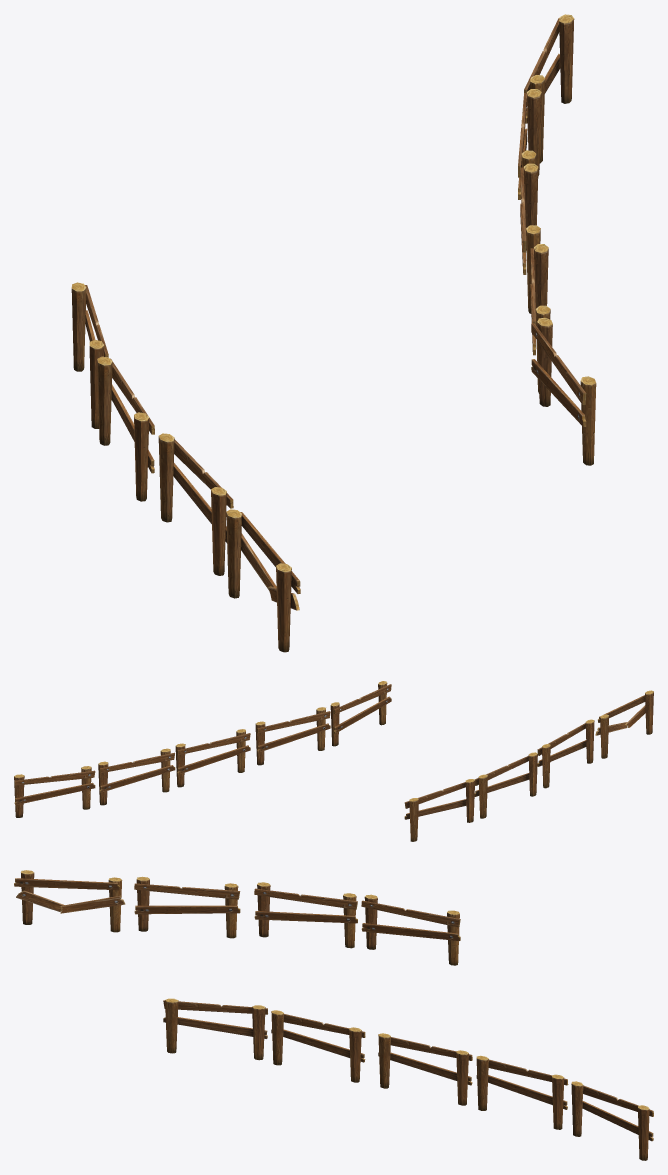
Rendered from Area_13_37.fbx.
3 renders of one model, top to bottom at view 1: azimuth 30°, elevation 25°; view 2: azimuth 150°, elevation 25°; view 3: azimuth 270°, elevation 25°, orthographic. The views are drawn at different scales.
Visible parts, largest first — view 1: Area_13_37; view 2: Area_13_37; view 3: Area_13_37.
Boxes of the visible parts, bbox=[...] form: Area_13_37: bbox=[71, 14, 596, 652]; Area_13_37: bbox=[14, 681, 653, 841]; Area_13_37: bbox=[14, 870, 653, 1160].
Size of the model in its own units: 1398 by 147 by 1564.
